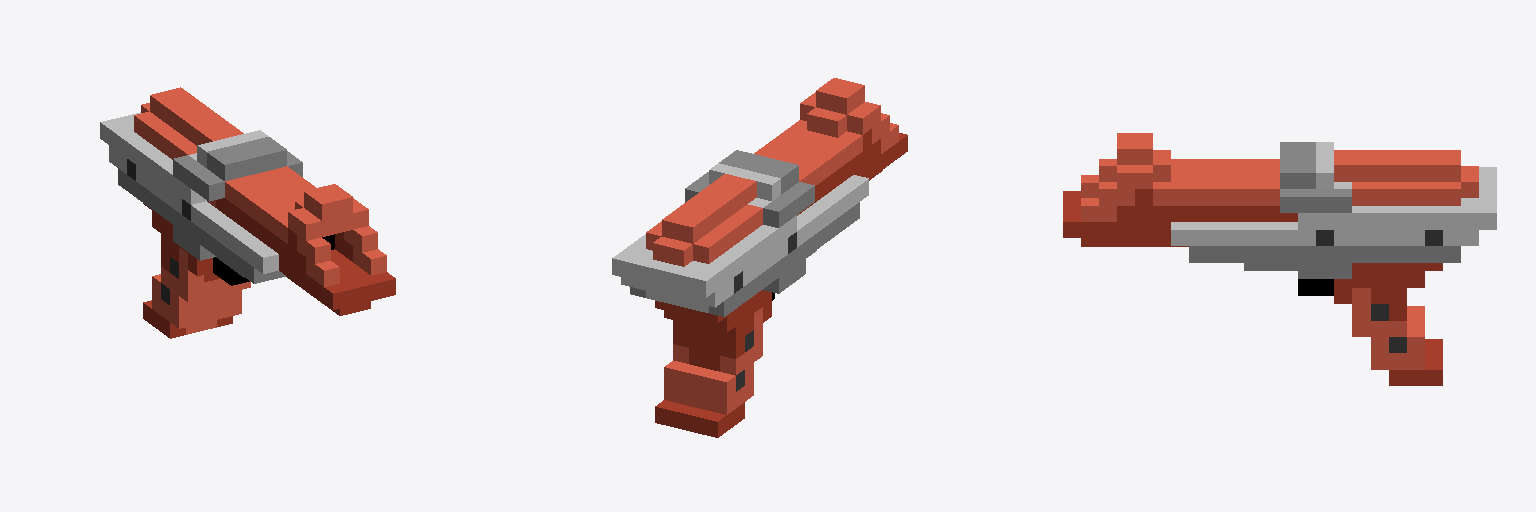
3 renders of one model, left to right at view 1: azimuth 30°, elevation 25°; view 2: azimuth 150°, elevation 25°; view 3: azimuth 270°, elevation 25°, orthographic.
Visible parts, largest first — view 1: Model; view 2: Model; view 3: Model.
Part boxes in pixels (left/top/right/bottom): Model: left=100, top=87, right=395, bottom=338; Model: left=612, top=78, right=907, bottom=437; Model: left=1063, top=133, right=1496, bottom=385.
Size of the model in its own units: 6 by 14 by 24.
1 materials, 1 textured.